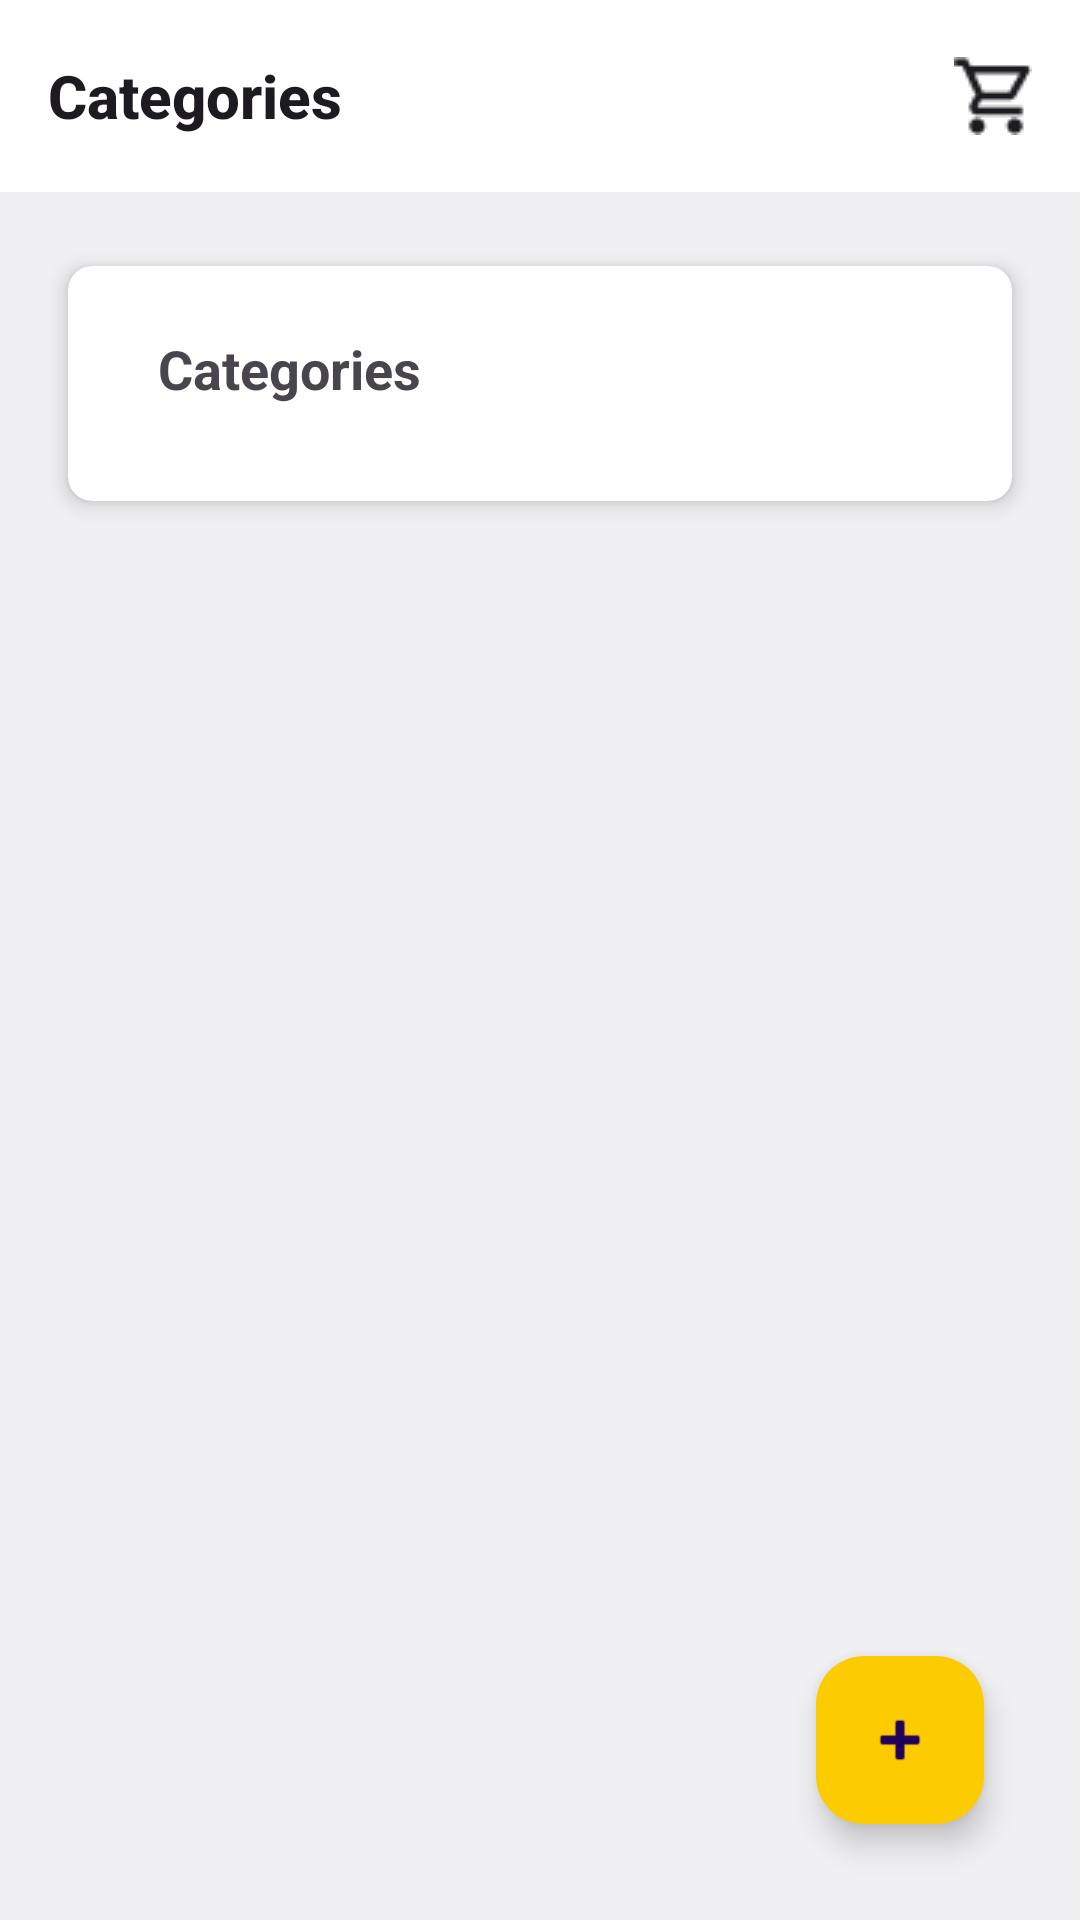

Icon bounding boxes for this 1080×1920 phone screenshot, format (x1, y1, x2, y2):
Add Categories: (816, 1656, 984, 1824)
shopping cart: (954, 57, 1032, 135)
